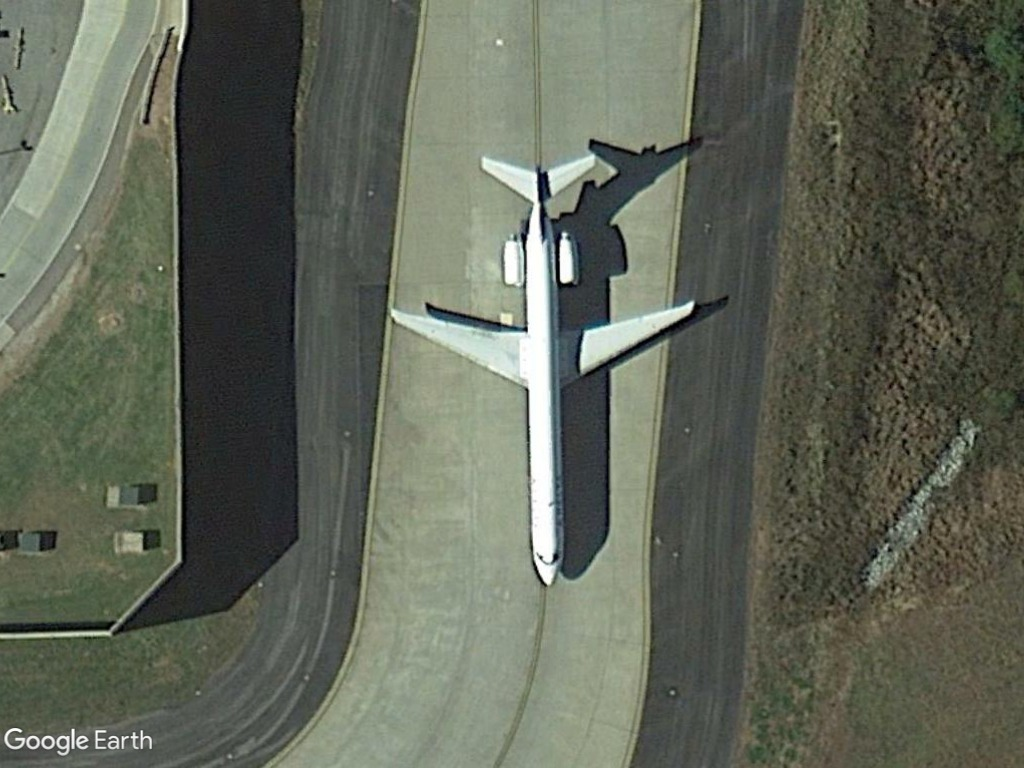chartered: (385, 147, 702, 599)
